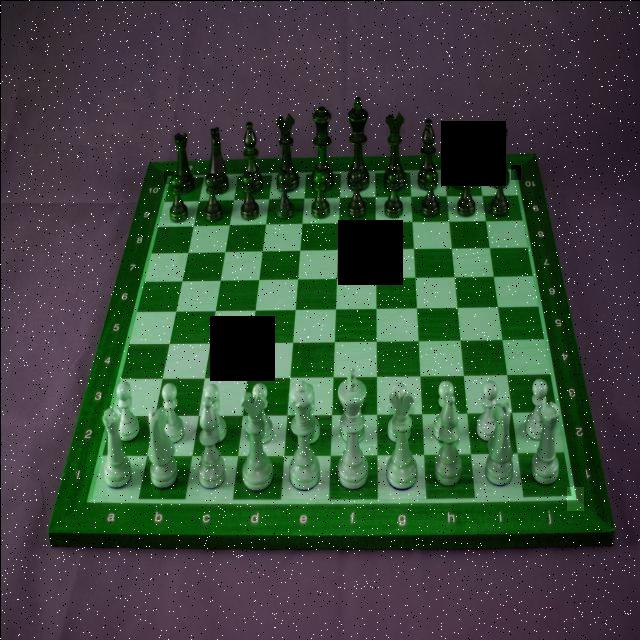chess-table-corners: (75, 482, 102, 510), (566, 486, 583, 510), (510, 164, 520, 179), (163, 170, 173, 183)
